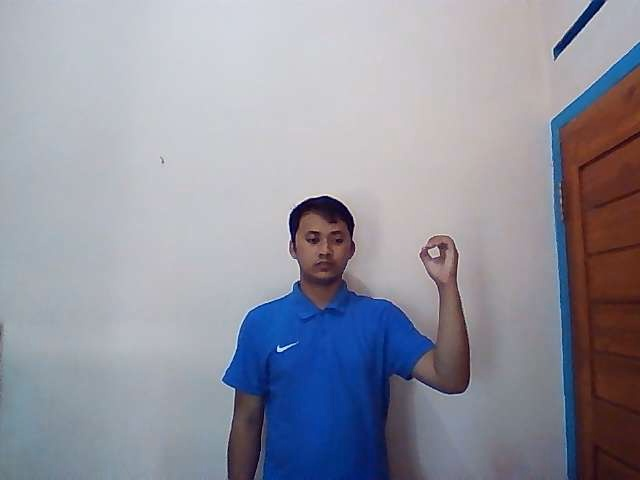O: (418, 235, 459, 283)
